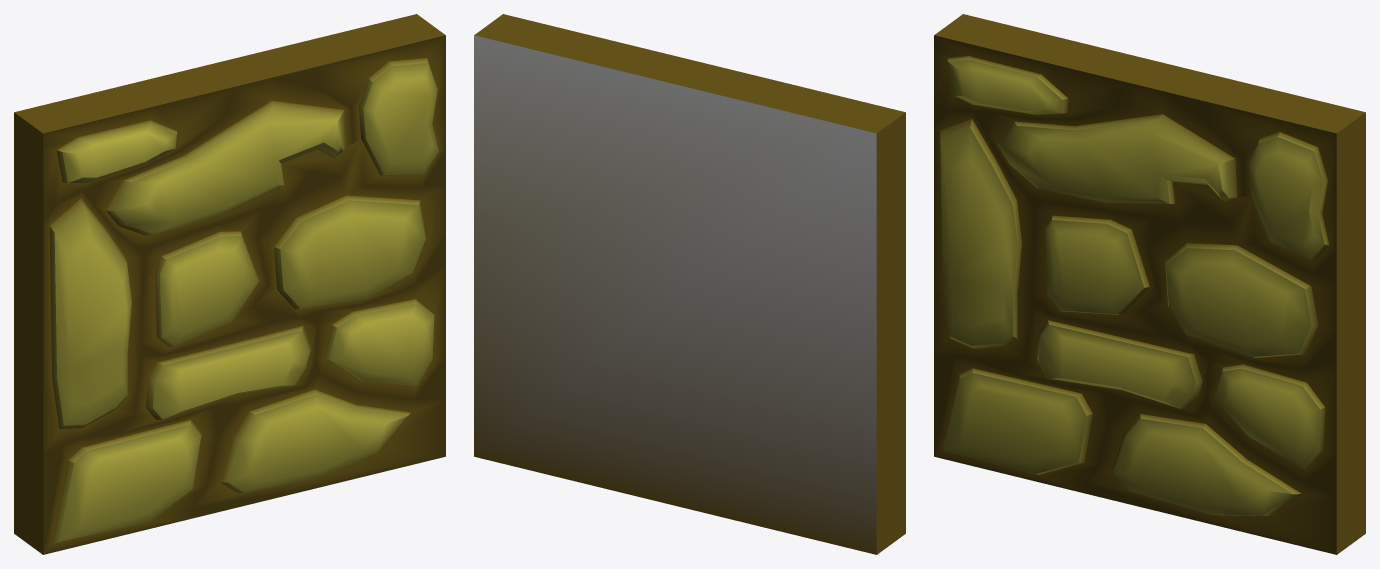
Rendered from FoundationWall1.fbx.
3 views of the same model, side by side, from view 1: azimuth 30°, elevation 25°; view 2: azimuth 150°, elevation 25°; view 3: azimuth 330°, elevation 25° (orthographic).
Parts seen in each view (by area): view 1: FoundationWall1; view 2: FoundationWall1; view 3: FoundationWall1.
Part boxes in pixels (<box>): FoundationWall1: <box>14,14,445,554</box>; FoundationWall1: <box>474,14,905,554</box>; FoundationWall1: <box>934,14,1365,554</box>.
Bounding box in the file's own units: 200 × 200 × 29.3.
